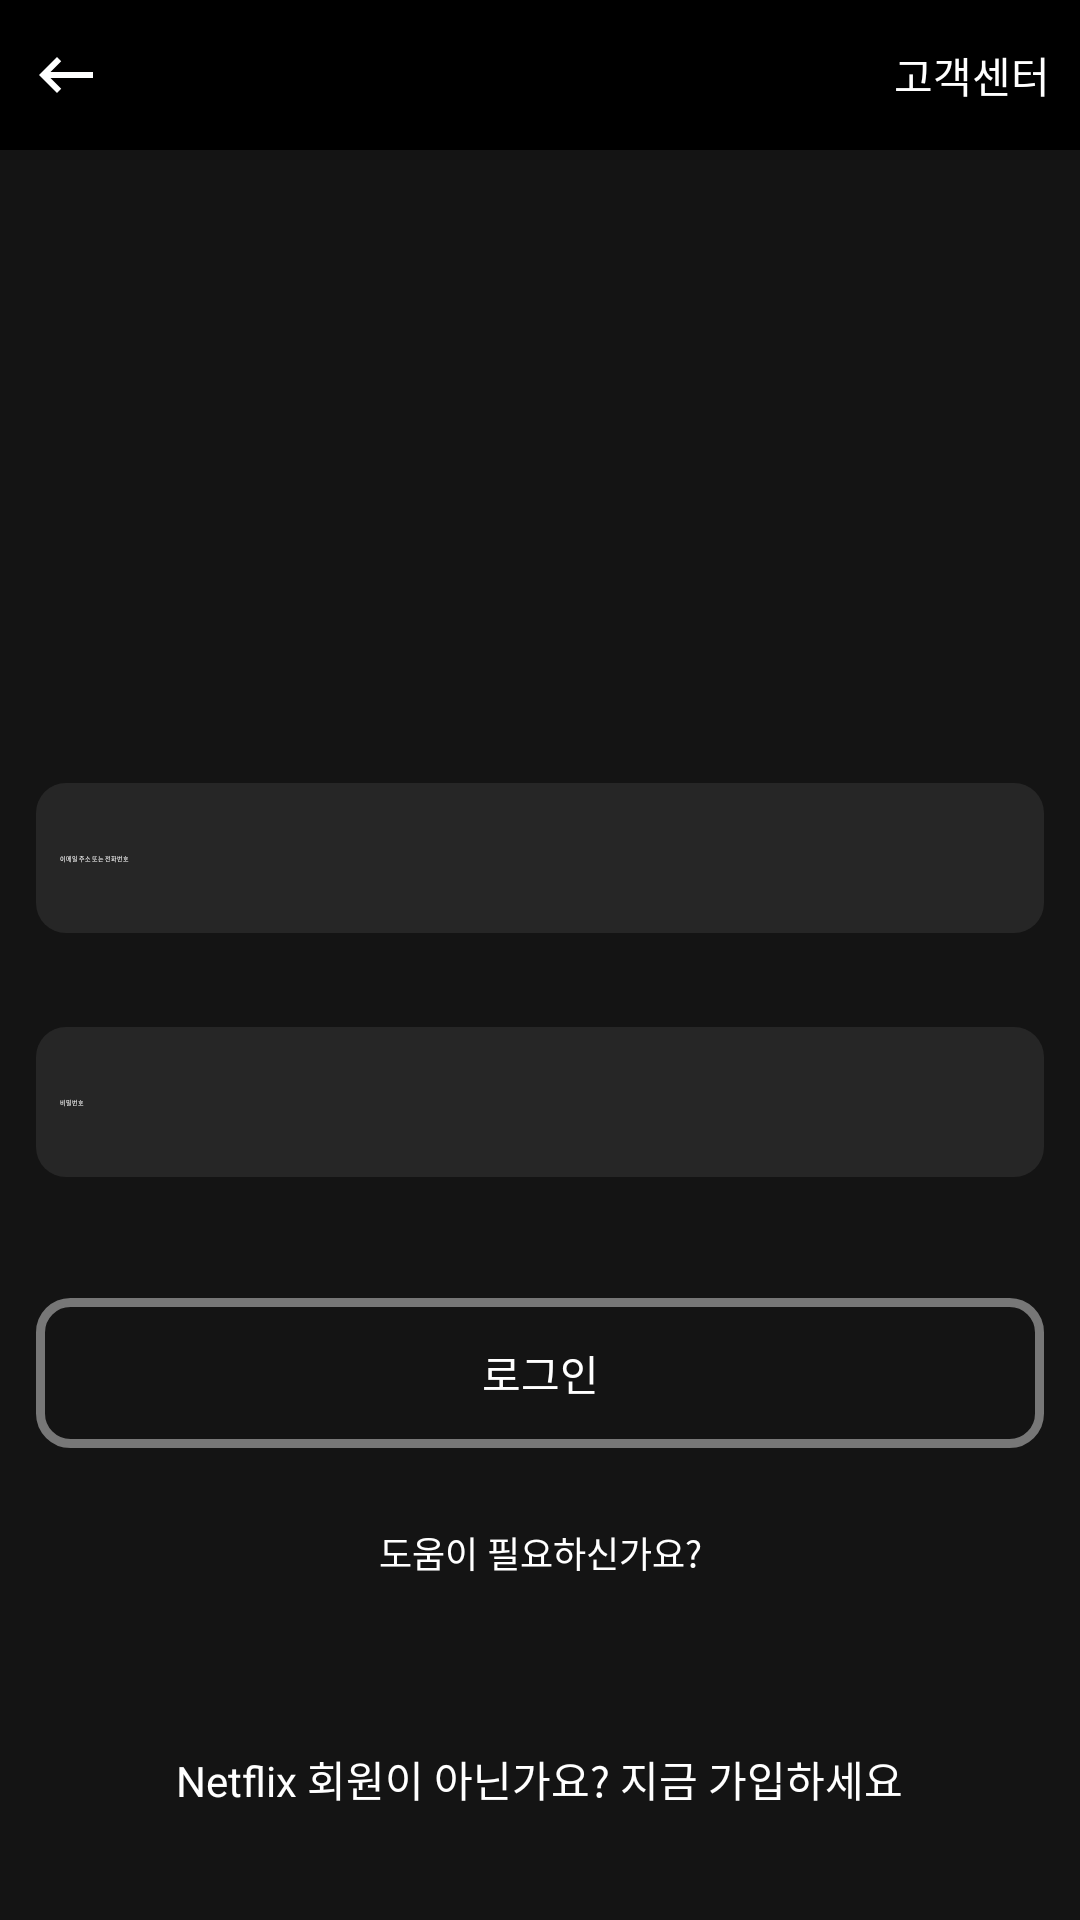

Screen size 1080px×1920px. Icon name, then its box in pixels as (x1, y1, x2, y2):
keyboard backspace: (39, 57, 93, 93)
